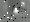person: (21, 4, 28, 16), (15, 8, 20, 15)
